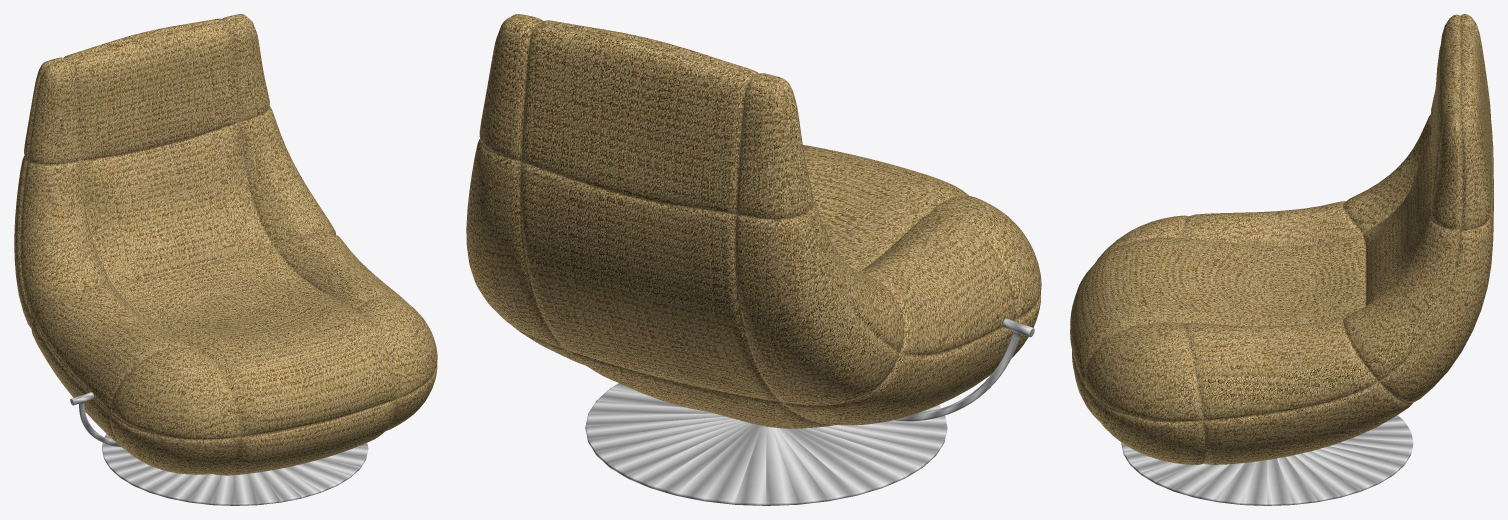
File: 15sofa_w100_h100_d100_2.13MB.gltf
The picture shows the model from 3 angles, left to right: view 1: azimuth 30°, elevation 25°; view 2: azimuth 150°, elevation 25°; view 3: azimuth 270°, elevation 25°; orthographic projection. The views are drawn at different scales.
Visible parts, largest first — view 1: root; view 2: root; view 3: root.
Part boxes in pixels (box(x1,y1,x2,y2)): root: box(14, 14, 437, 505); root: box(466, 14, 1041, 505); root: box(1070, 14, 1493, 505).
Size of the model in its own units: 1 by 1 by 1.
2 materials, 2 textured.
